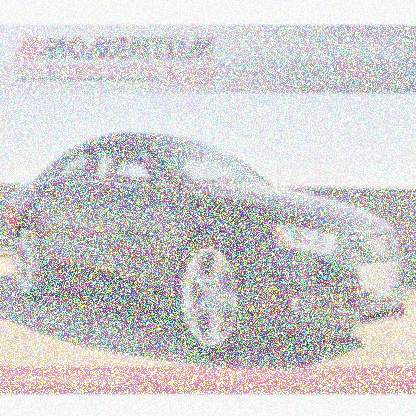Vehicle: (7, 132, 407, 356)
